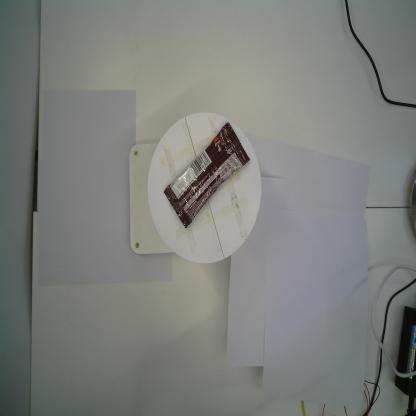Chocolate: (162, 119, 250, 232)
